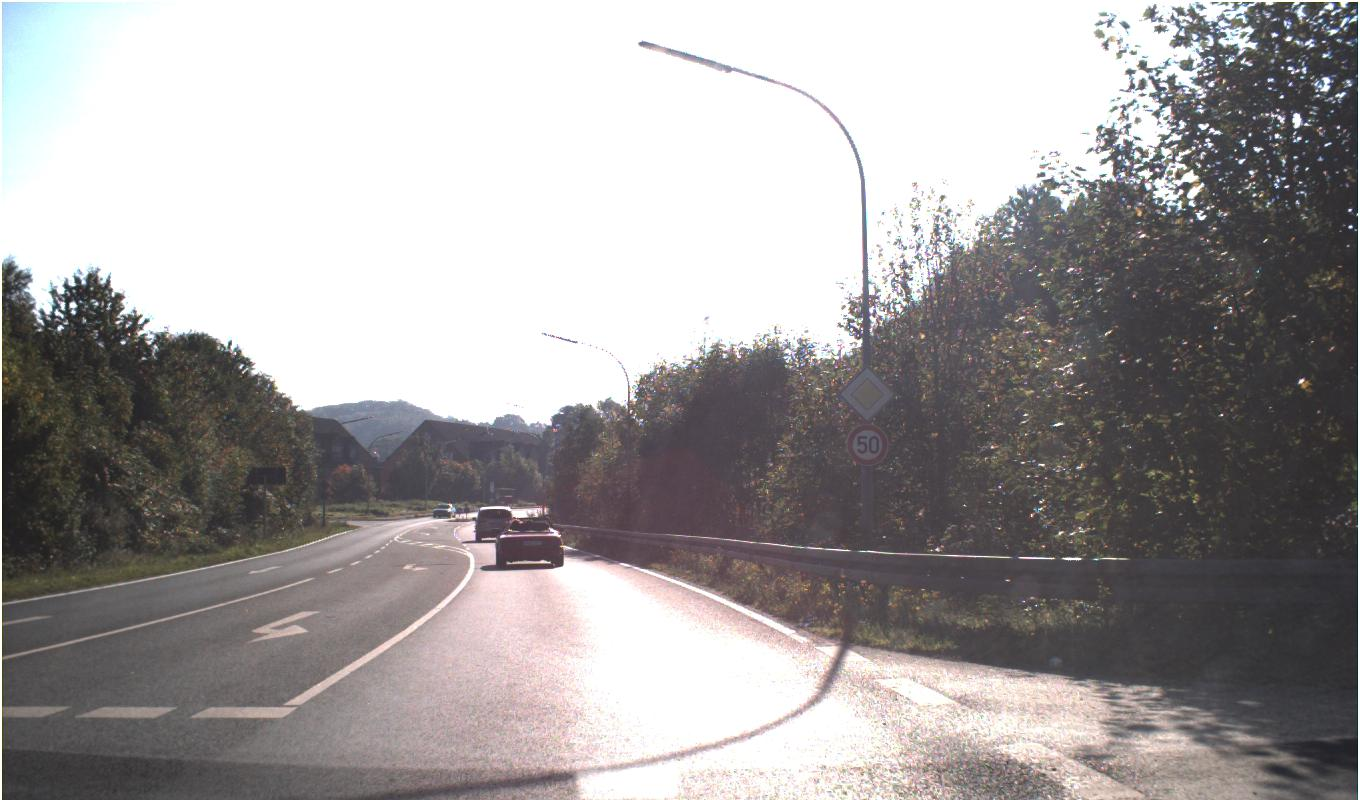prohibitory: (845, 423, 888, 465)
sign: (838, 366, 896, 422)
